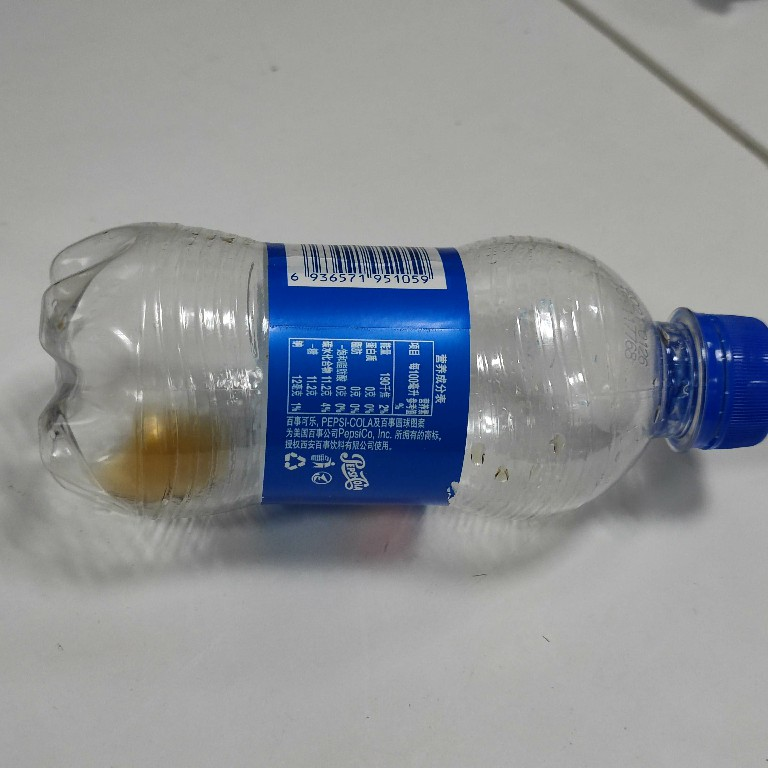bottle: (33, 216, 768, 537)
